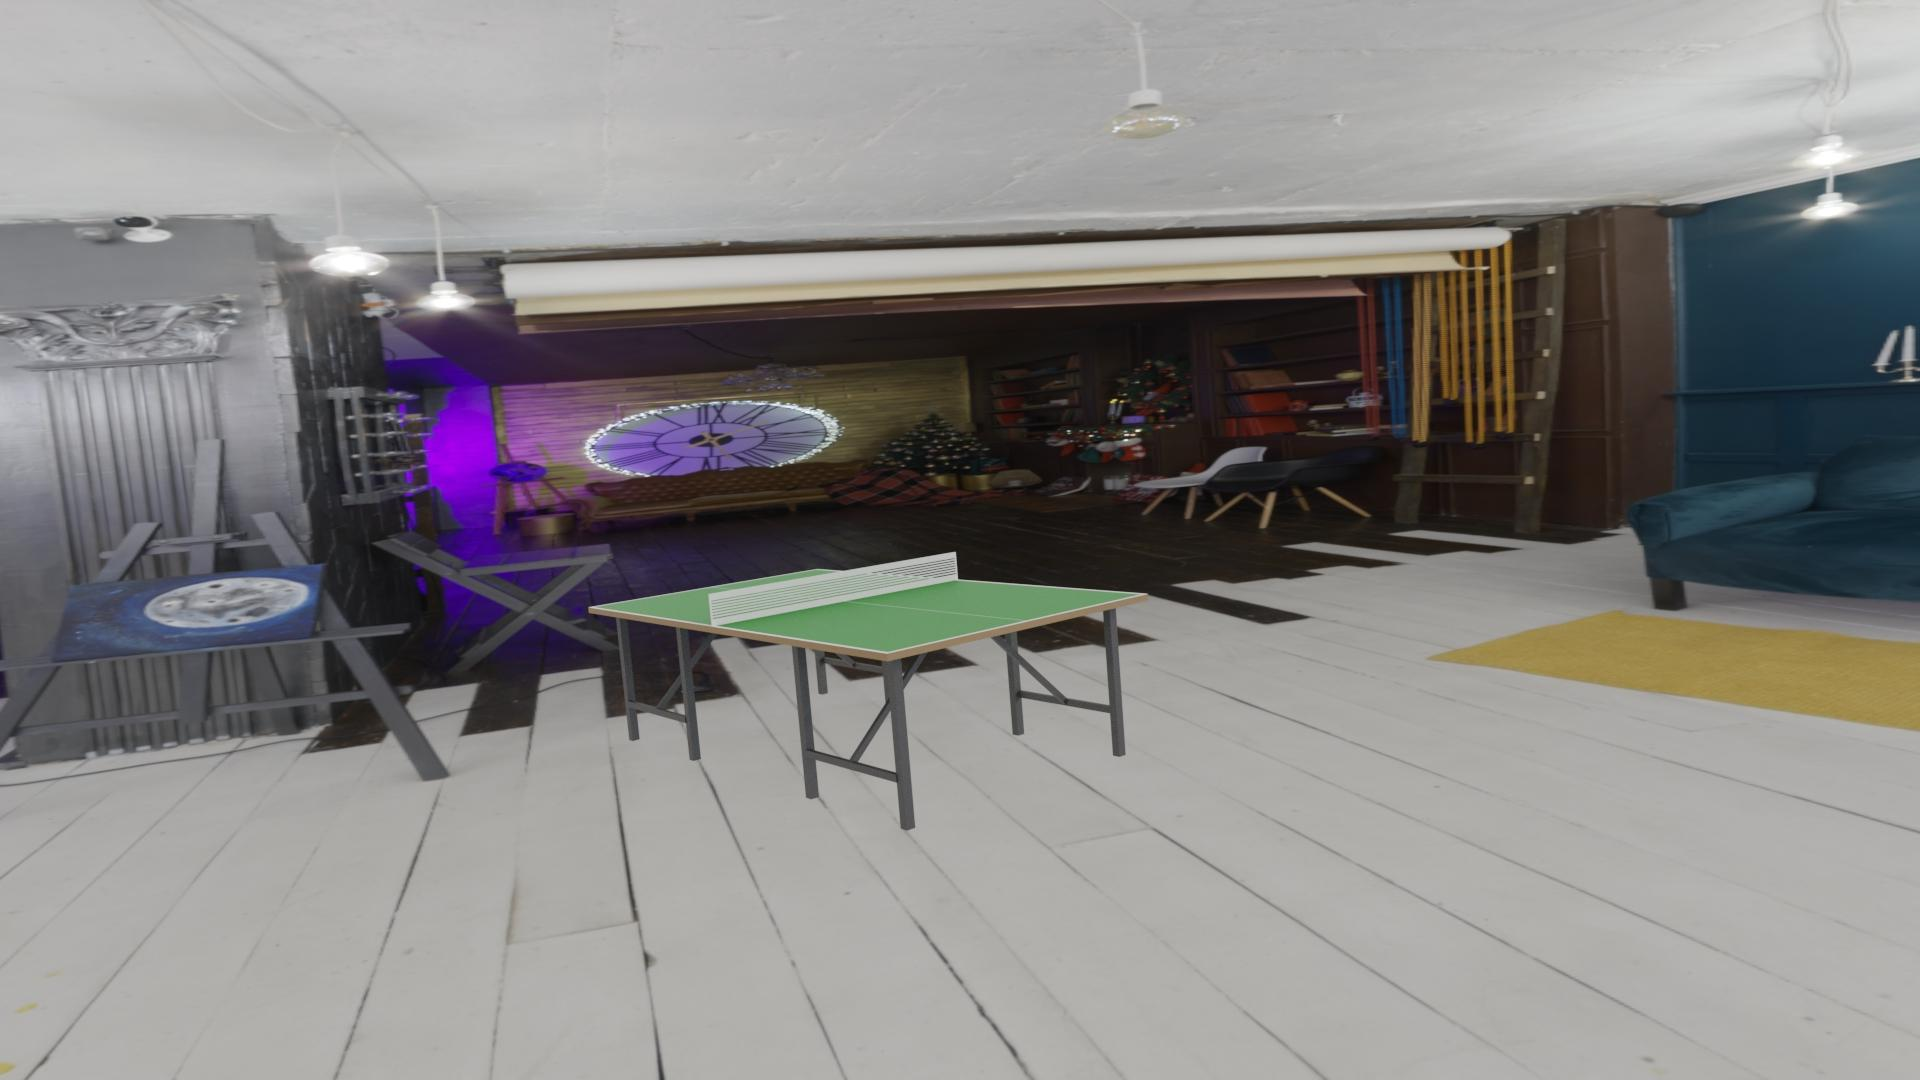table: (593, 570, 1142, 653)
